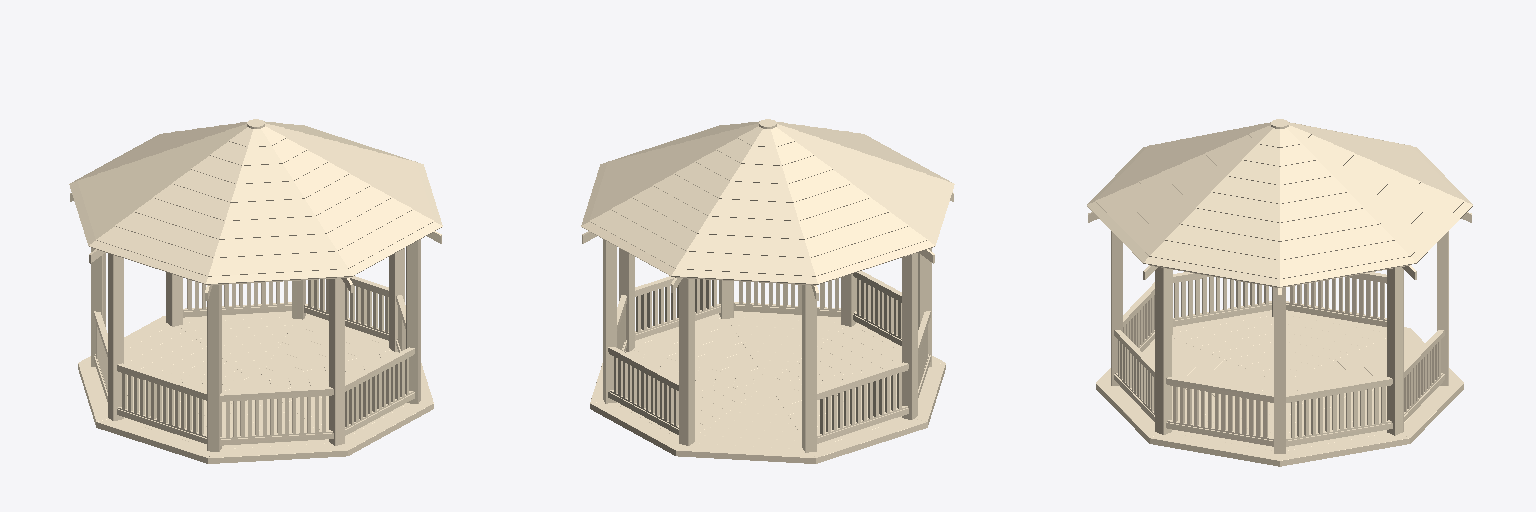
File: gazebo.obj
The picture shows the model from 3 angles: view 1: azimuth 30°, elevation 25°; view 2: azimuth 150°, elevation 25°; view 3: azimuth 270°, elevation 25°; orthographic projection.
Parts seen in each view (by area): view 1: Gazebo; view 2: Gazebo; view 3: Gazebo.
Part boxes in pixels (bbox=[...]): Gazebo: bbox=[69, 119, 442, 463]; Gazebo: bbox=[581, 119, 954, 463]; Gazebo: bbox=[1087, 119, 1472, 466].
Bounding box in the file's own units: 6.3 × 4.77 × 6.3.